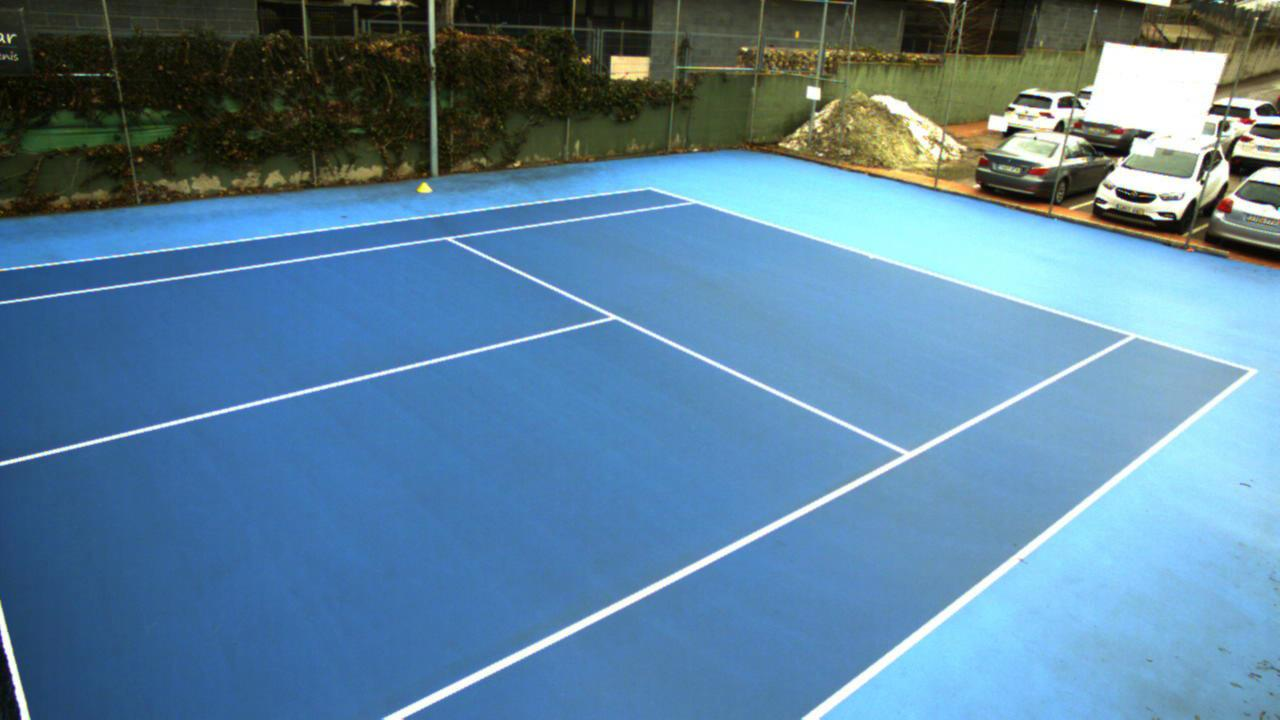cancha_tenis: (0, 199, 1136, 720)
point_f1: (680, 195, 702, 212)
point_f2: (1113, 323, 1142, 350)
point_fc1: (863, 247, 878, 265)
point_i1: (439, 225, 464, 251)
point_i2: (890, 443, 918, 469)
point_ic1: (595, 304, 625, 332)
